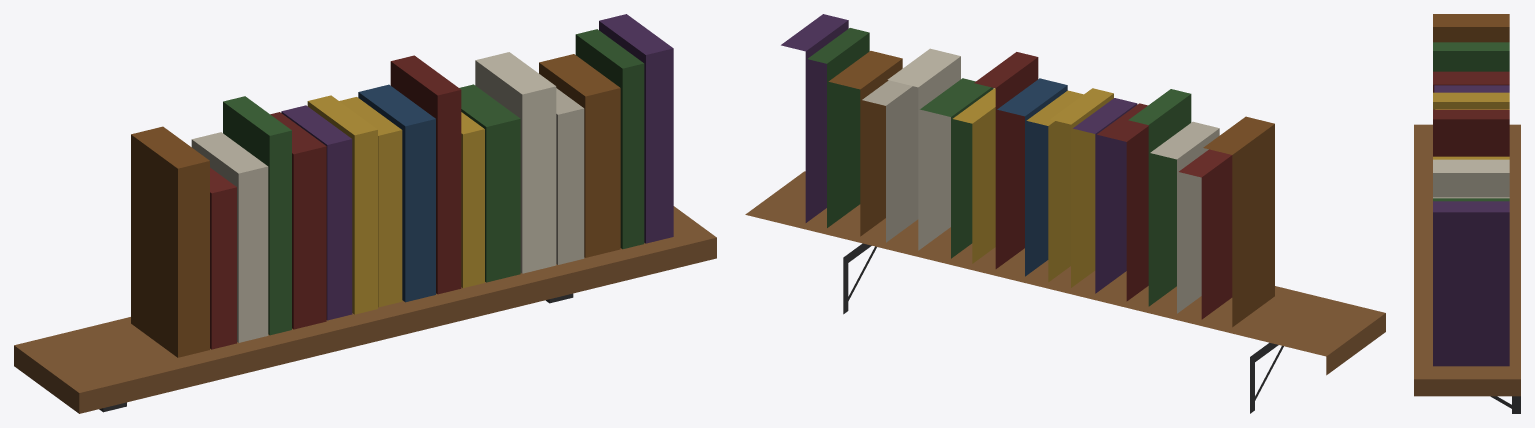
Rendered from shelf.wall.books.glb.
3 views of the same model, side by side, from view 1: azimuth 30°, elevation 25°; view 2: azimuth 150°, elevation 25°; view 3: azimuth 270°, elevation 25° (orthographic). The views are drawn at different scales.
Visible parts, largest first — view 1: shelf_wall_books; view 2: shelf_wall_books; view 3: shelf_wall_books.
Boxes of the visible parts, bbox=[...] form: shelf_wall_books: bbox=[14, 14, 716, 413]; shelf_wall_books: bbox=[745, 14, 1385, 413]; shelf_wall_books: bbox=[1414, 14, 1520, 413].
Size of what is drawn, in the model's own units: 0.8 by 0.3392 by 0.142.
